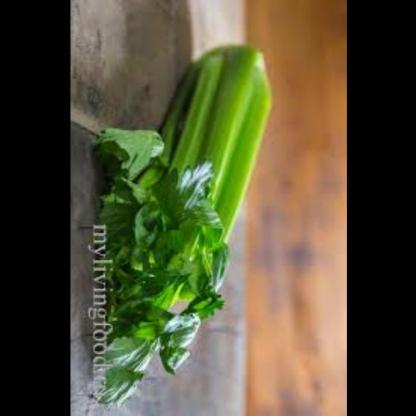celery: (86, 37, 278, 406)
